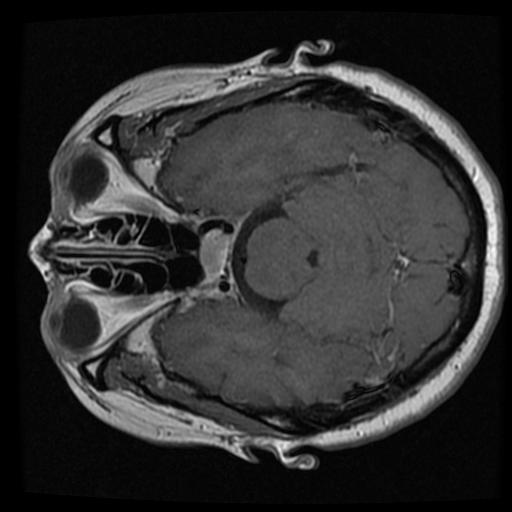pituitary tumour: (200, 230, 229, 285)
